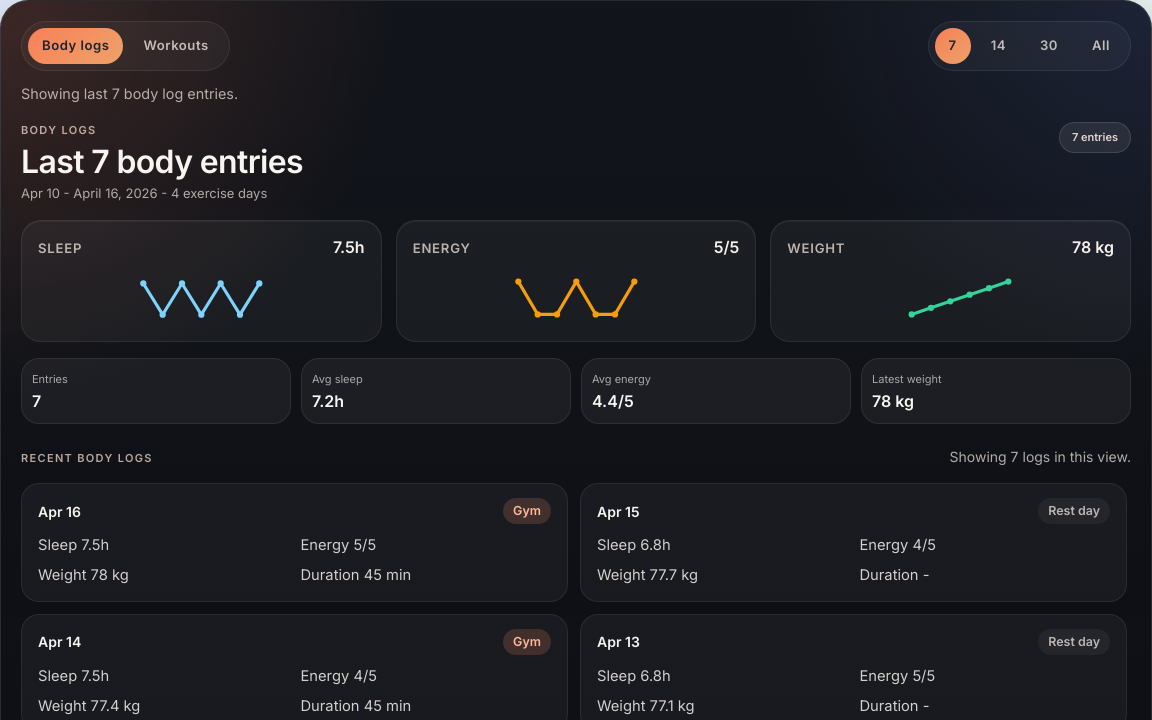
LatestWorkoutVisualizationCard › shows body logs by default and allows range filters
Expected: the heading "Last 7 body entries" is shown, left=21, top=145, right=303, bottom=178
Expected: the text "Showing 7 logs in this view." is shown, left=950, top=446, right=1131, bottom=467
Click the button with test id "range-14". click: [998, 46]
box: left=977, top=28, right=1020, bottom=64
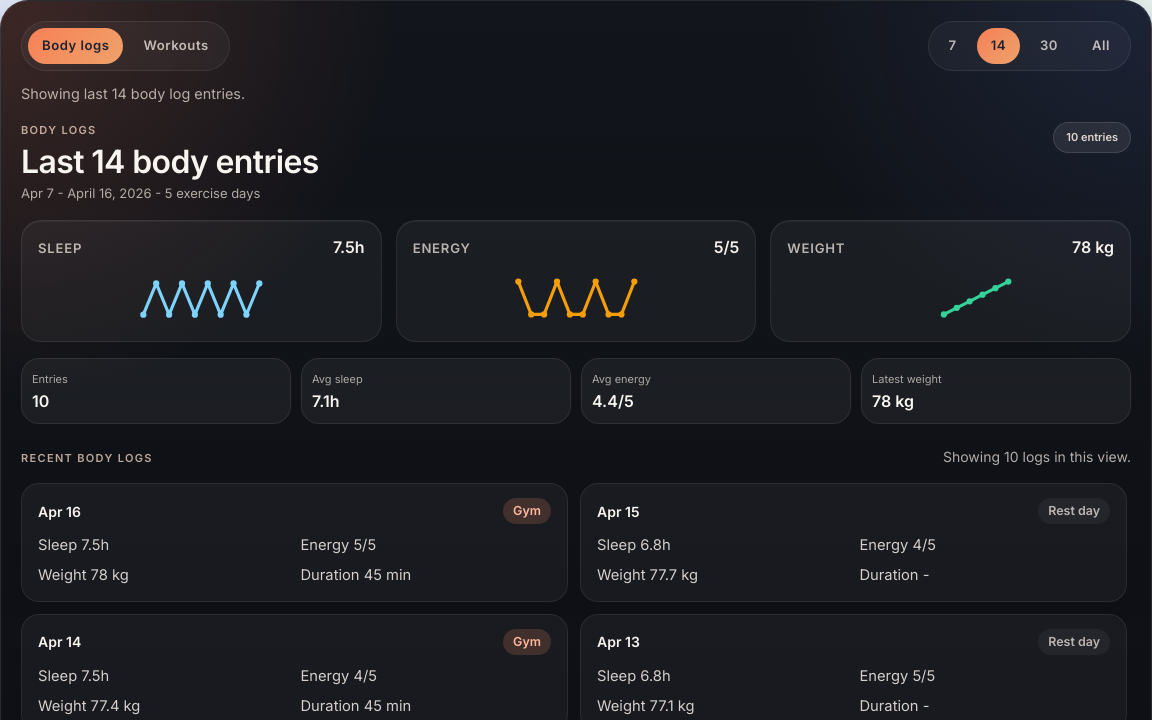
Expected: the heading "Last 14 body entries" is shown, left=21, top=145, right=319, bottom=178
Expected: the text "Showing 10 logs in this view." is shown, left=943, top=446, right=1131, bottom=467
